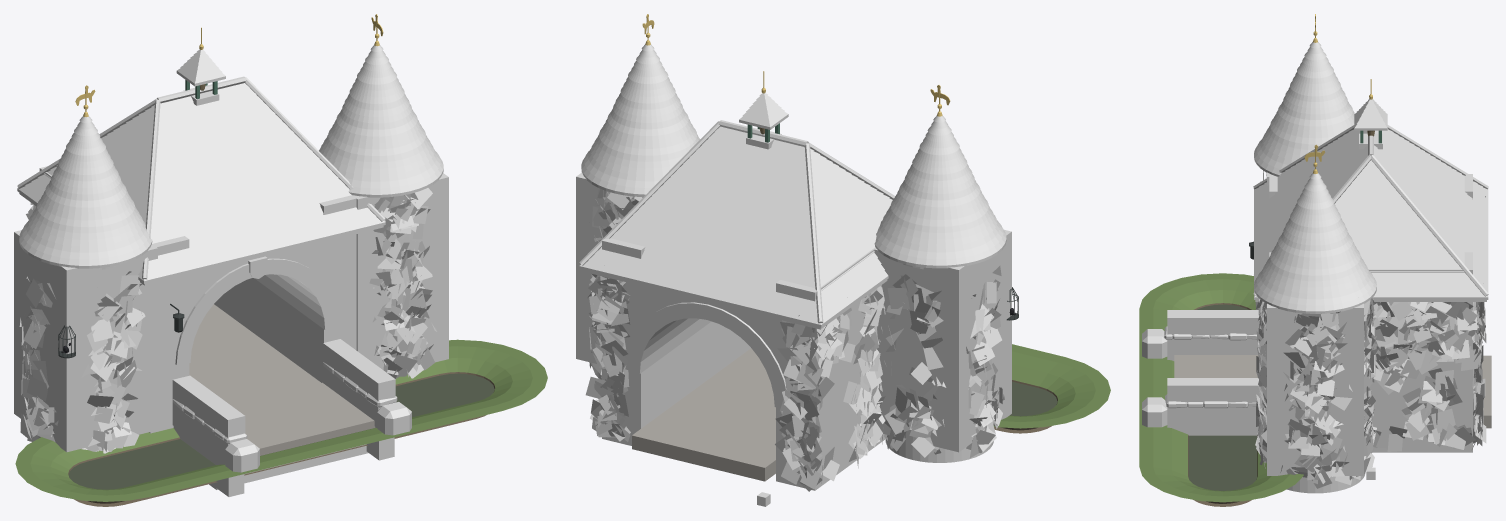
Rendered from AR_Prinsenpoort.fbx.
The picture shows the model from 3 angles, left to right: view 1: azimuth 30°, elevation 25°; view 2: azimuth 150°, elevation 25°; view 3: azimuth 270°, elevation 25°; orthographic projection. The views are drawn at different scales.
Visible parts, largest first — view 1: static__TEX_leien_0, static__TEX_klimop_0, COLL_0, static__TEX_baksteen_poort_0, static__MAT_gras_0, static__MAT_kassei_0, COLL_1, static__MAT_water_0, COLL_3, COLL_2, COLL_4, static__TEX_steen_0 (+2 smaller); view 2: static__TEX_leien_0, static__TEX_klimop_0, COLL_0, static__MAT_kassei_0, static__TEX_baksteen_poort_0, COLL_3, static__MAT_gras_0, COLL_2, COLL_1, static__MAT_water_0, static__TEX_baksteen_torens_0; view 3: static__TEX_leien_0, static__TEX_klimop_0, static__MAT_gras_0, COLL_1, COLL_5, static__MAT_water_0, COLL_4, COLL_3, static__TEX_baksteen_poort_0, static__TEX_steen_0, static__MAT_kassei_0, static__TEX_baksteen_torens_0 (+1 smaller).
Boxes of the visible parts, left/top/right/bottom form: static__TEX_leien_0: left=17, top=45, right=443, bottom=285; static__TEX_klimop_0: left=19, top=188, right=436, bottom=453; COLL_0: left=14, top=230, right=157, bottom=452; static__TEX_baksteen_poort_0: left=149, top=234, right=394, bottom=496; static__MAT_gras_0: left=15, top=339, right=547, bottom=501; static__MAT_kassei_0: left=189, top=304, right=375, bottom=455; COLL_1: left=352, top=173, right=448, bottom=367; static__MAT_water_0: left=68, top=373, right=494, bottom=489; COLL_3: left=214, top=195, right=356, bottom=382; COLL_2: left=39, top=166, right=189, bottom=428; COLL_4: left=172, top=375, right=245, bottom=463; static__TEX_steen_0: left=172, top=256, right=411, bottom=472; static__TEX_leien_0: left=579, top=44, right=1006, bottom=329; static__TEX_klimop_0: left=585, top=188, right=1004, bottom=491; COLL_0: left=873, top=229, right=1011, bottom=452; static__MAT_kassei_0: left=632, top=348, right=775, bottom=481; static__TEX_baksteen_poort_0: left=602, top=283, right=885, bottom=490; COLL_3: left=602, top=238, right=750, bottom=431; static__MAT_gras_0: left=993, top=344, right=1110, bottom=428; COLL_2: left=776, top=247, right=875, bottom=472; COLL_1: left=576, top=172, right=642, bottom=363; static__MAT_water_0: left=1010, top=381, right=1057, bottom=416; static__TEX_baksteen_torens_0: left=596, top=262, right=993, bottom=462; static__TEX_leien_0: left=1253, top=42, right=1488, bottom=313; static__TEX_klimop_0: left=1253, top=170, right=1486, bottom=488; static__MAT_gras_0: left=1139, top=273, right=1303, bottom=502; COLL_1: left=1267, top=303, right=1363, bottom=475; COLL_5: left=1167, top=378, right=1259, bottom=427; static__MAT_water_0: left=1188, top=304, right=1256, bottom=490; COLL_4: left=1167, top=310, right=1261, bottom=359; COLL_3: left=1269, top=252, right=1472, bottom=437; static__TEX_baksteen_poort_0: left=1170, top=302, right=1472, bottom=452; static__TEX_steen_0: left=1142, top=326, right=1256, bottom=427; static__MAT_kassei_0: left=1174, top=355, right=1491, bottom=428; static__TEX_baksteen_torens_0: left=1266, top=454, right=1365, bottom=493.
Size of the model in its own units: 11.7 by 9.51 by 7.6.
